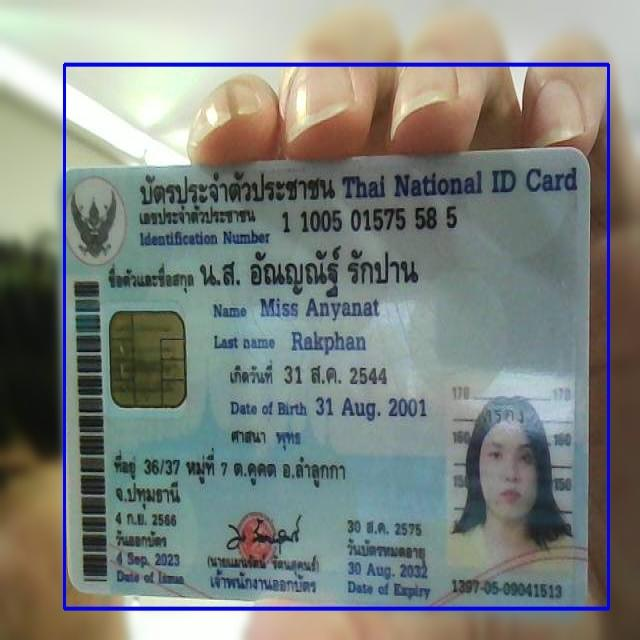Address_th: (111, 442, 361, 510)
Date_of_Birth: (314, 390, 431, 426)
Date_of_Expiry: (345, 556, 429, 583)
Date_of_Issue: (111, 545, 186, 571)
First_Name: (258, 294, 383, 324)
ID_Number: (279, 204, 461, 238)
Image: (445, 379, 569, 581)
Last_Name: (288, 328, 368, 360)
Thai_Name: (196, 242, 426, 302)
